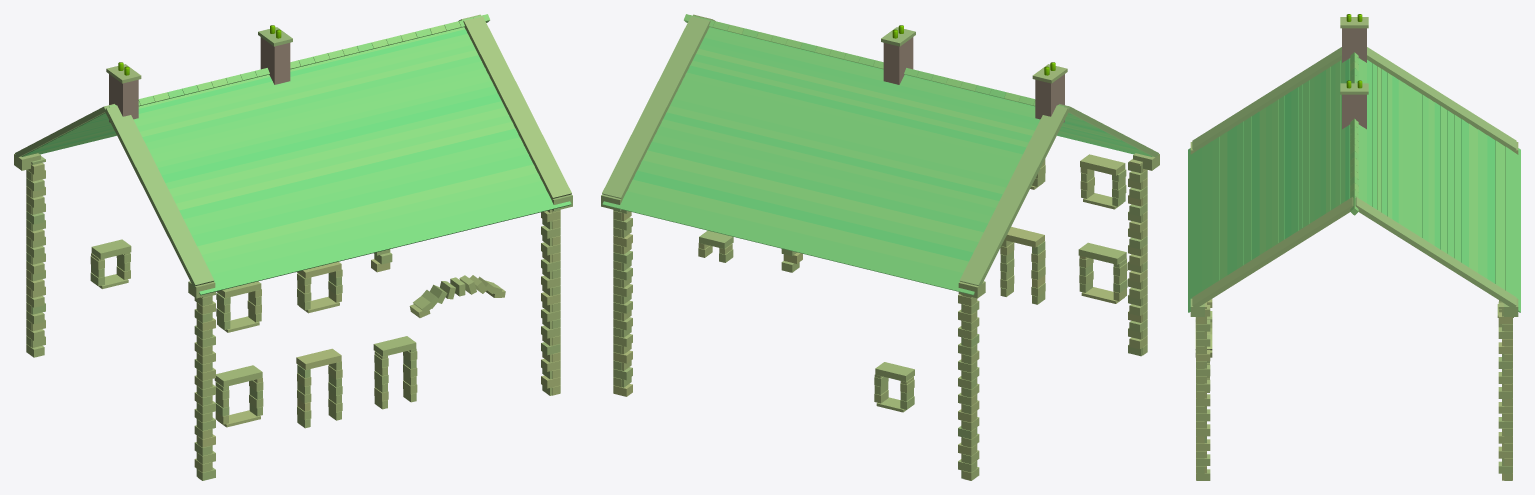
File: SM_Bld_179_Stone.glb
The picture shows the model from 3 angles, left to right: view 1: azimuth 30°, elevation 25°; view 2: azimuth 150°, elevation 25°; view 3: azimuth 270°, elevation 25°; orthographic projection. The views are drawn at different scales.
Visible parts, largest first — view 1: SM_Bld_179_Stone; view 2: SM_Bld_179_Stone; view 3: SM_Bld_179_Stone.
Boxes of the visible parts, x1,y1,x2,y2 form: SM_Bld_179_Stone: (14, 14, 572, 480); SM_Bld_179_Stone: (601, 14, 1159, 480); SM_Bld_179_Stone: (1188, 14, 1520, 480).
Size of the model in its own units: 14.45 by 12.58 by 12.11.
